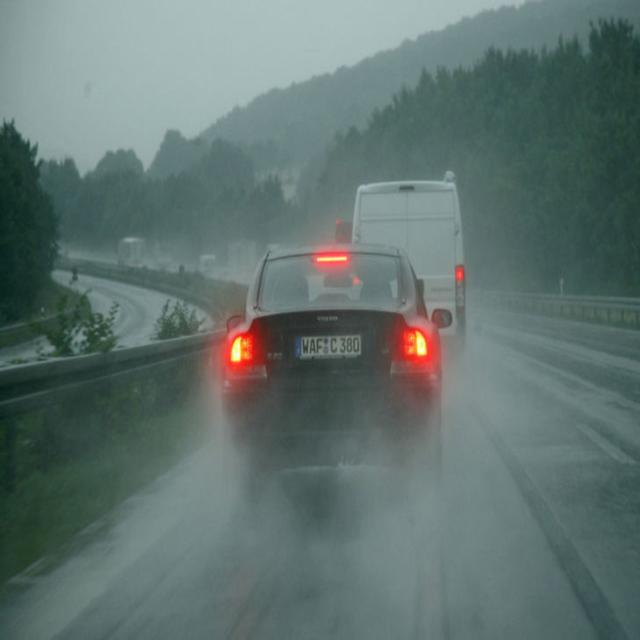bus: (115, 233, 143, 269), (224, 242, 254, 273), (151, 240, 171, 270), (198, 253, 216, 280)
car: (227, 247, 449, 527), (351, 175, 467, 370)
